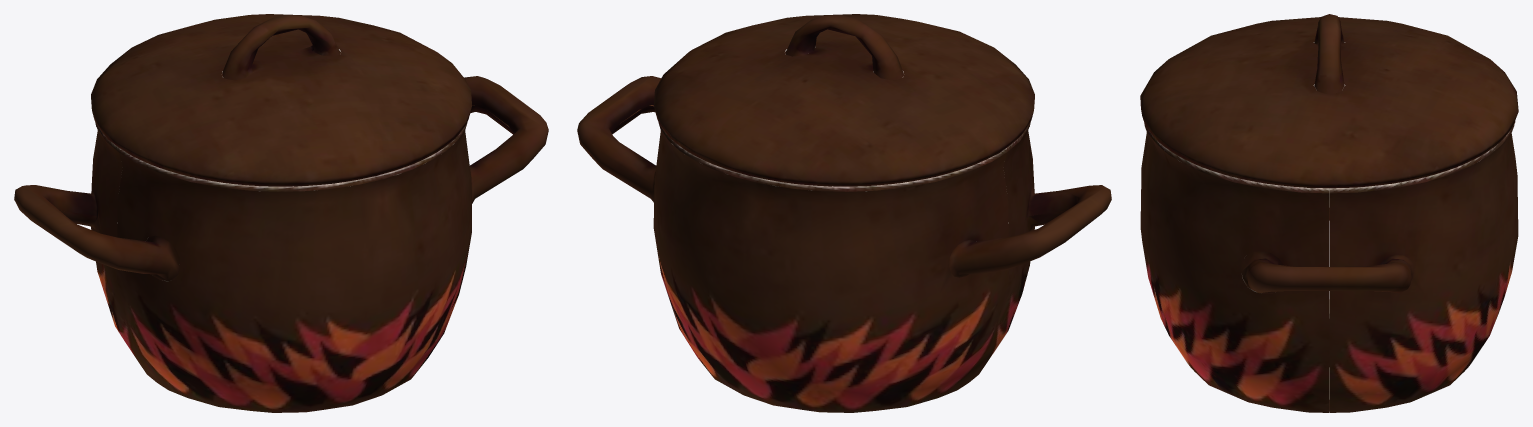
File: pot_enamel_01.glb
3 renders of one model, left to right at view 1: azimuth 30°, elevation 25°; view 2: azimuth 150°, elevation 25°; view 3: azimuth 270°, elevation 25°, orthographic.
Parts seen in each view (by area): view 1: pot_enamel_01_lid; view 2: pot_enamel_01_lid; view 3: pot_enamel_01_lid.
Part boxes in pixels (bbox=[...]): pot_enamel_01_lid: bbox=[14, 14, 548, 412]; pot_enamel_01_lid: bbox=[577, 14, 1111, 412]; pot_enamel_01_lid: bbox=[1140, 14, 1518, 412].
Size of the model in its own units: 0.2626 by 0.1784 by 0.1803.
1 material, 1 textured.
